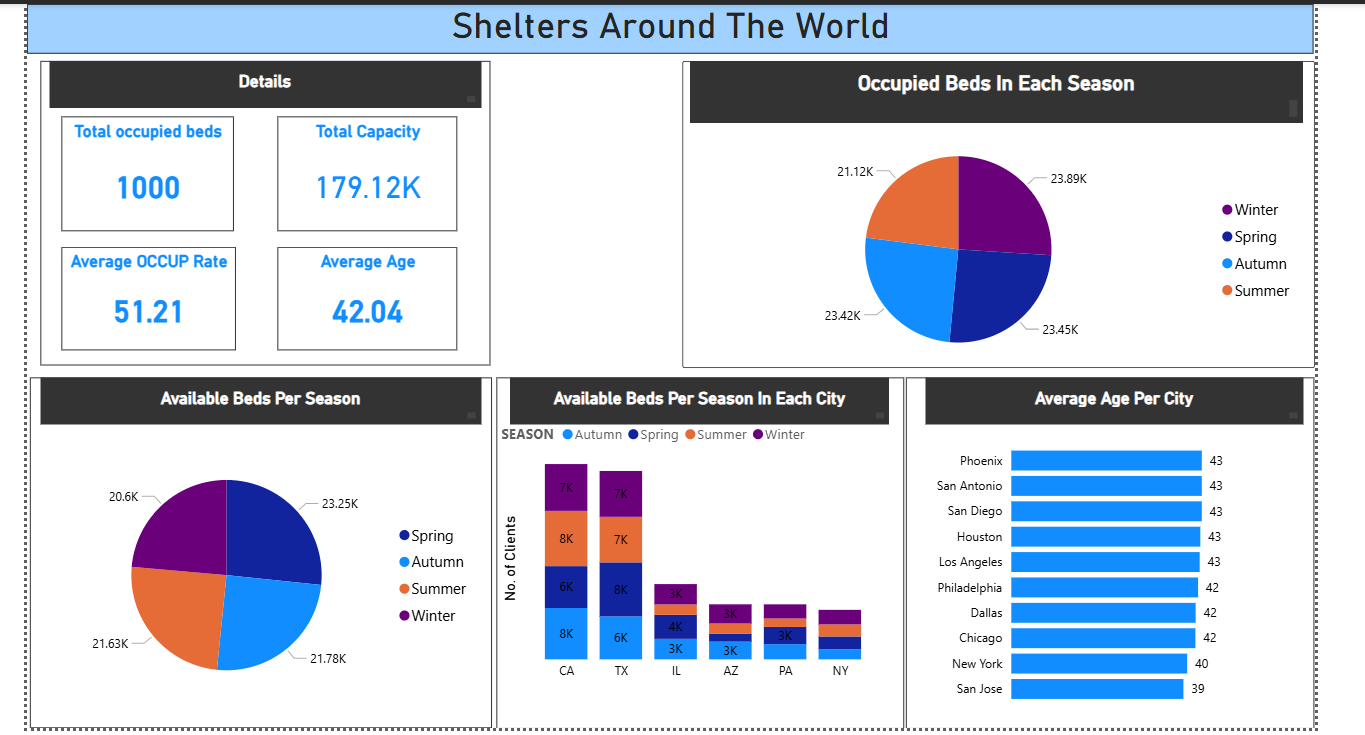

What the dashboard file says about the page in this screenshot:
{"tool":"powerbi","page":{"name":"Page 1","canvas":[1280,720],"ordinal":0},"visuals":[{"type":"pieChart","title":"Age","fields":{"Category":["SEASON_DIM.SEASON"],"Y":["Sum(SHELTER_OCCUPANCY_FACT.OCCUPIED_BEDS)"]},"box":[658.8,118.8,610,248.8],"z":0,"group":"g1"},{"type":"shape","title":"HIGH LEVEL KPI","box":[2.7,370.7,459.4,348.4],"z":0},{"type":"pieChart","title":"Age","fields":{"Category":["SEASON_DIM.SEASON"],"Y":["Sum(SHELTER_OCCUPANCY_FACT.AVAILABLE_BEDS)"]},"box":[22.2,429.8,428.4,276.1],"z":0,"group":"g2"},{"type":"shape","title":"HIGH LEVEL KPI","box":[874,370.7,405.7,349.3],"z":1000},{"type":"shape","title":"HIGH LEVEL KPI","box":[651.3,57,628.7,305.5],"z":2000},{"type":"shape","title":"HIGH LEVEL KPI","box":[13.3,57.1,447.4,302.7],"z":3000},{"type":"textbox","title":"Shelters Around The World","box":[0,0,1279.4,49.1],"z":4000},{"type":"shape","title":"HIGH LEVEL KPI","box":[466.2,370.8,405.2,349.2],"z":6000},{"type":"columnChart","title":"Client State","fields":{"Category":["SHELTER_DIM.STATE"],"Y":["Sum(SHELTER_OCCUPANCY_FACT.OCCUPIED_BEDS)"],"Series":["SEASON_DIM.SEASON"]},"box":[466.4,407.4,390.3,274.2],"z":7000},{"type":"card","title":"Average Age ","fields":{"Values":["Avg(SHELTER_OCCUPANCY_FACT.AVERAGE_AGE)"]},"box":[249.4,241.8,179,102.8],"z":8000},{"type":"card","title":"Average OCCUP Rate","fields":{"Values":["Avg(SHELTER_OCCUPANCY_FACT.OCCUPANCY_RATE)"]},"box":[34.3,241.8,173.2,102.8],"z":9000},{"type":"card","title":"Total Capacity","fields":{"Values":["Sum(SHELTER_OCCUPANCY_FACT.TOTAL_CAPACITY)"]},"box":[249.4,112.3,179,114.2],"z":10000},{"type":"card","title":"Total occupied beds","fields":{"Values":["CountNonNull(SHELTER_OCCUPANCY_FACT.OCCUPIED_BEDS)"]},"box":[34.3,112.3,171.3,114.2],"z":11000},{"type":"group","id":"g1","title":"Age","box":[658.8,118.8,610,248.8],"z":18000},{"type":"clusteredBarChart","fields":{"Y":["Avg(SHELTER_OCCUPANCY_FACT.AVERAGE_AGE)"],"Category":["SHELTER_DIM.CITY"]},"box":[892.9,420.7,386.5,285.6],"z":21000},{"type":"textbox","title":"Details","box":[22.8,57.1,428.4,45.7],"z":23000},{"type":"textbox","title":"Occupied Beds In Each Season","box":[658.7,57.1,609.2,60.9],"z":24000},{"type":"group","id":"g2","title":"Age","box":[22.2,429.8,428.4,276.1],"z":25000},{"type":"textbox","title":"Available Beds Per Season","box":[13.3,371.2,437.9,45.7],"z":25001},{"type":"textbox","title":"Available Beds Per Season In Each City","box":[479.8,371.2,377,45.7],"z":25002},{"type":"textbox","title":"Average Age Per City","box":[892.9,371.2,375.1,45.7],"z":25003}]}

Visuals, with their boxes in screenshot pixels (x1, y1, x2, y2):
"Age" pieChart: Rect(685, 120, 1300, 370)
"HIGH LEVEL KPI" shape: Rect(24, 374, 487, 725)
"Age" pieChart: Rect(44, 433, 475, 711)
"HIGH LEVEL KPI" shape: Rect(902, 374, 1311, 726)
"HIGH LEVEL KPI" shape: Rect(678, 57, 1311, 365)
"HIGH LEVEL KPI" shape: Rect(35, 58, 486, 363)
"Shelters Around The World" textbox: Rect(21, 0, 1311, 49)
"HIGH LEVEL KPI" shape: Rect(491, 374, 900, 726)
"Client State" columnChart: Rect(491, 411, 885, 687)
"Average Age " card: Rect(273, 244, 453, 347)
"Average OCCUP Rate" card: Rect(56, 244, 230, 347)
"Total Capacity" card: Rect(273, 113, 453, 228)
"Total occupied beds" card: Rect(56, 113, 229, 228)
"Age" group: Rect(685, 120, 1300, 370)
clusteredBarChart - Avg(SHELTER_OCCUPANCY_FACT.AVERAGE_AGE) x SHELTER_DIM.CITY: Rect(921, 424, 1311, 712)
"Details" textbox: Rect(44, 58, 476, 104)
"Occupied Beds In Each Season" textbox: Rect(685, 58, 1299, 119)
"Age" group: Rect(44, 433, 475, 711)
"Available Beds Per Season" textbox: Rect(35, 374, 476, 420)
"Available Beds Per Season In Each City" textbox: Rect(505, 374, 885, 420)
"Average Age Per City" textbox: Rect(921, 374, 1299, 420)
